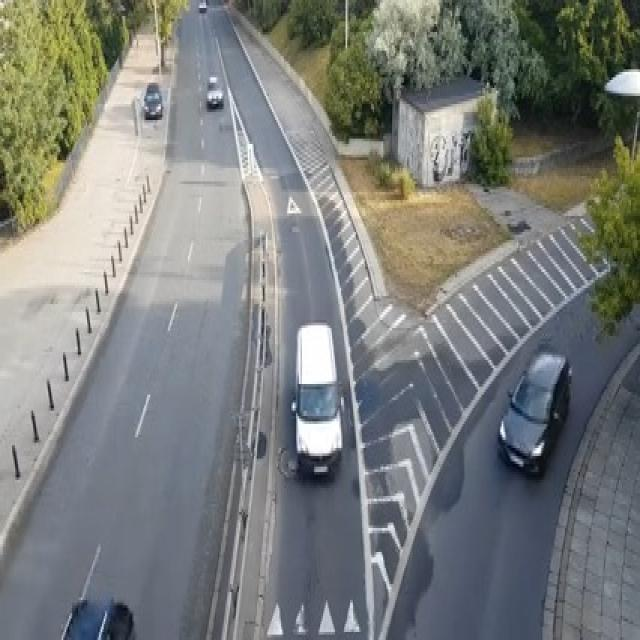car: (498, 347, 572, 477), (290, 320, 344, 475), (58, 595, 134, 637), (143, 83, 162, 117), (206, 75, 222, 106), (198, 0, 206, 11)
